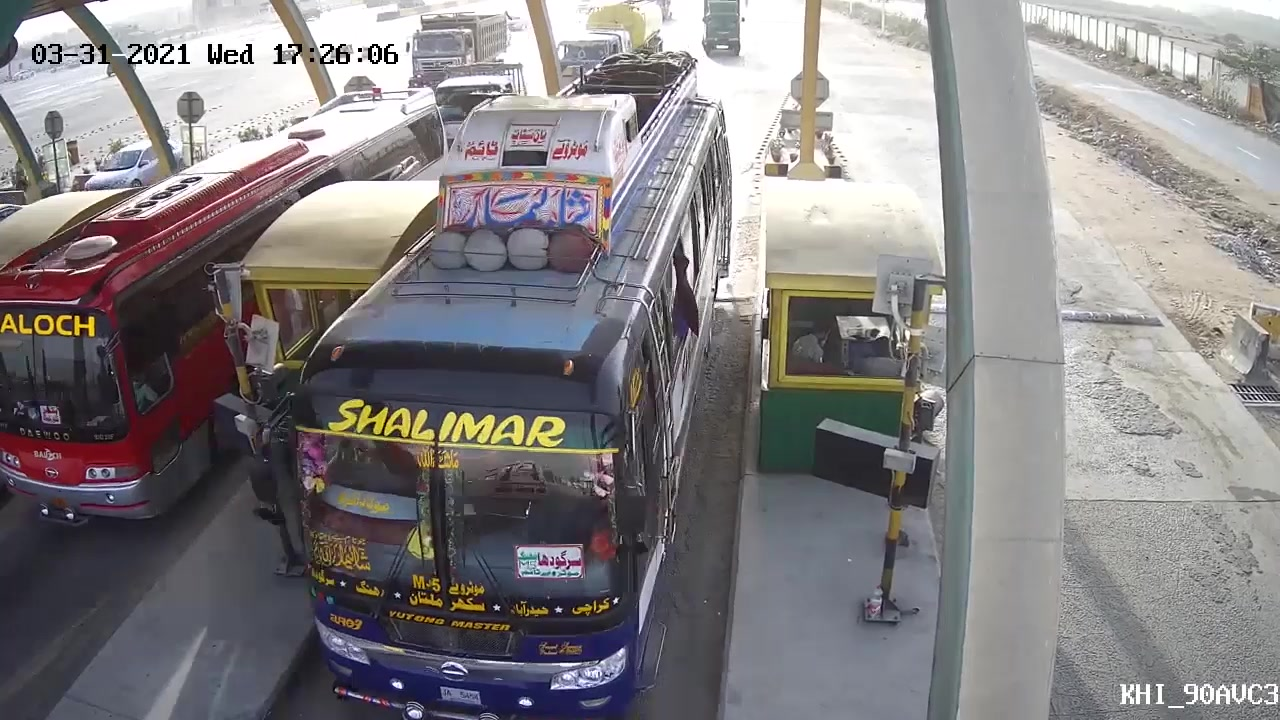F4: (279, 51, 730, 711)
